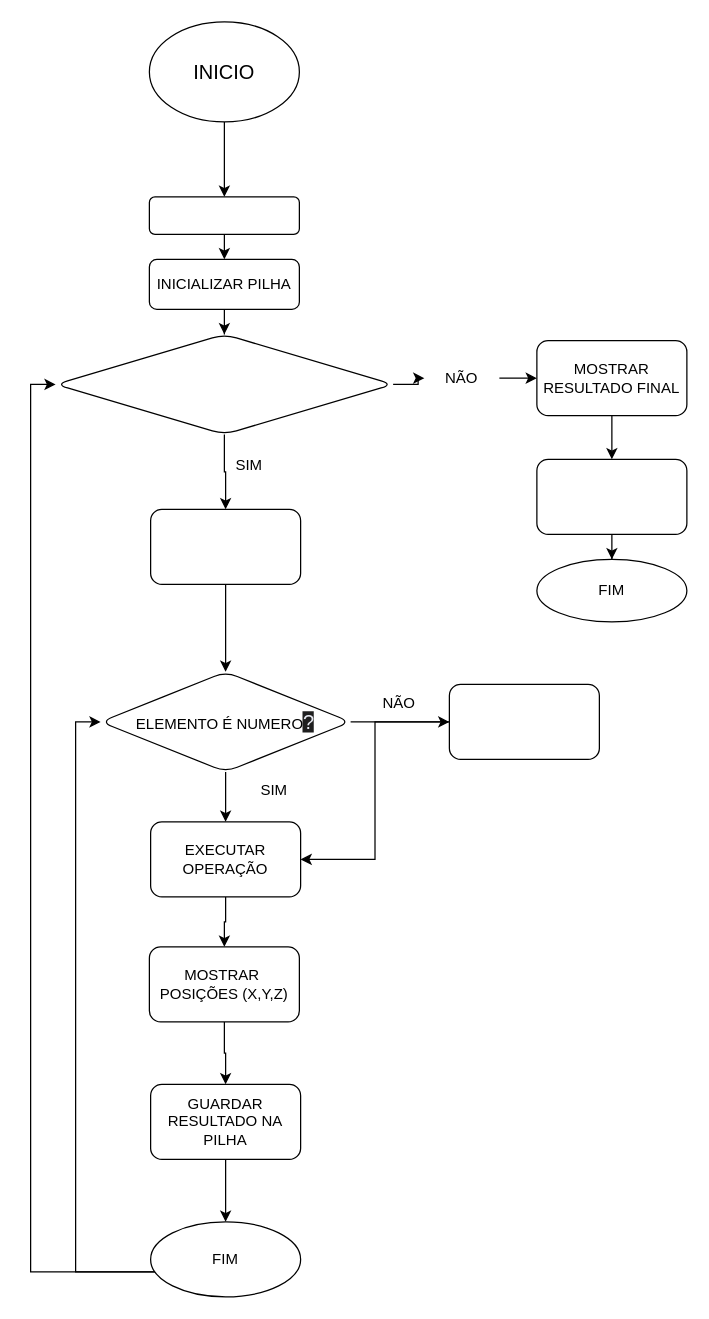
The diagram is 709 pixels wide and 1319 high, and some of its shapes have lost their labels. Each missing label, with the centre of its shape:
ARMAZENAR NA PILHA (X,Y,Z): point 225,546
EXISTE PROXIMOS ELEMENTOS ?: point 223,383
MOSTRAR NOTAÇÃO ALGEBRICA: point 611,496
RECEBER RPN: point 223,215
RETIRAR OPERANDOS DA PILHA: point 523,721
